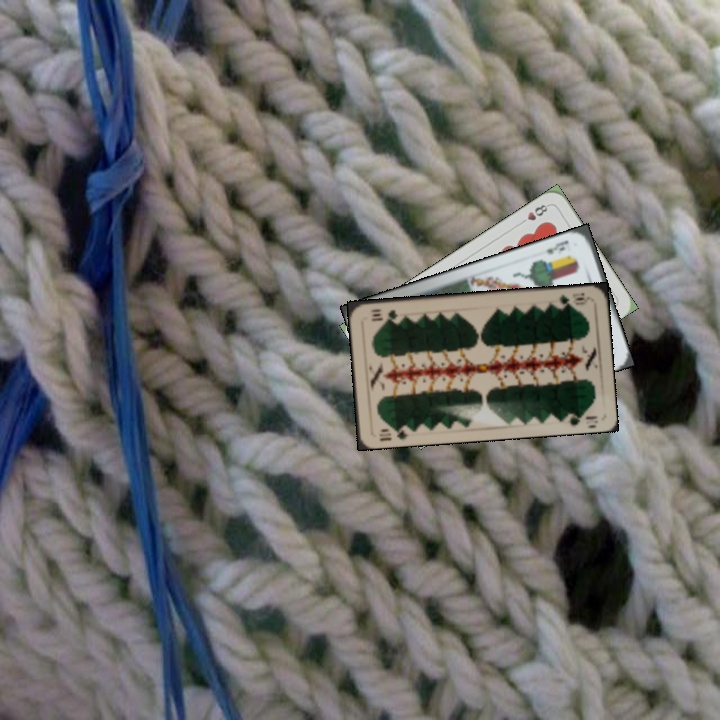EK: (542, 236, 571, 257)
G10: (375, 422, 412, 444), (556, 290, 592, 309)
H8: (516, 200, 552, 227)
